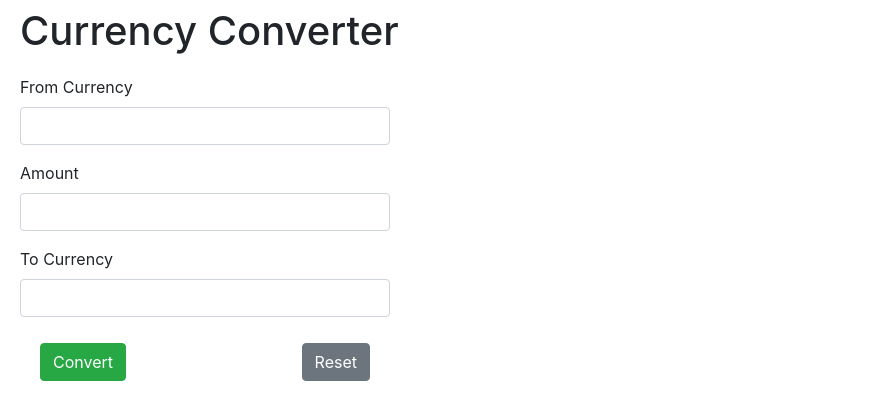
it: CurrencyCalculator component › fill the form, submit button is clicked for failed conversion
This screenshot has width=887, height=402.
Type "xxx" into the field with test id "fromCurr" at (205, 126), box [20,107,390,145]
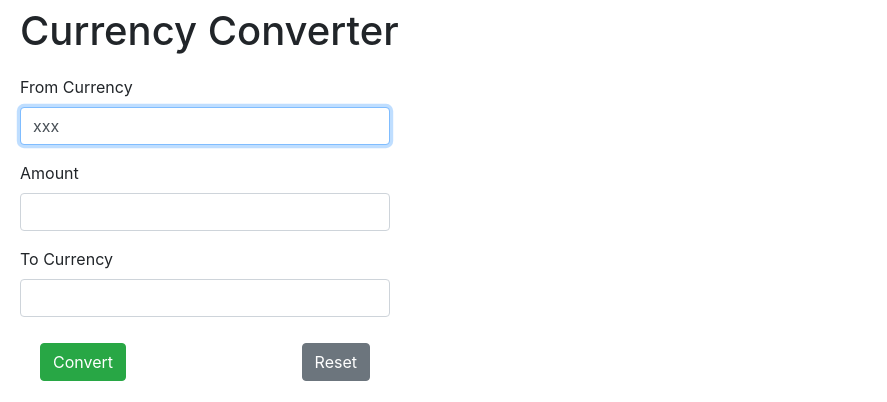
Type "10" into the number field with test id "amount" at (205, 212), box [20,193,390,231]
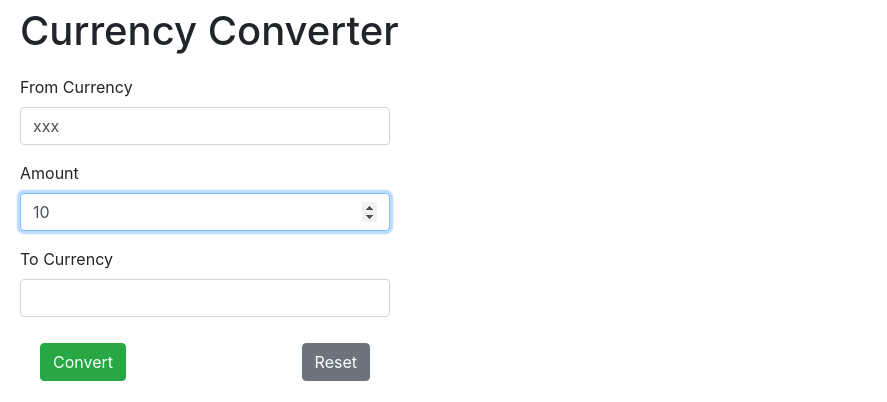
Type "aud" into the field with test id "toCurr" at (205, 298), box [20,279,390,317]
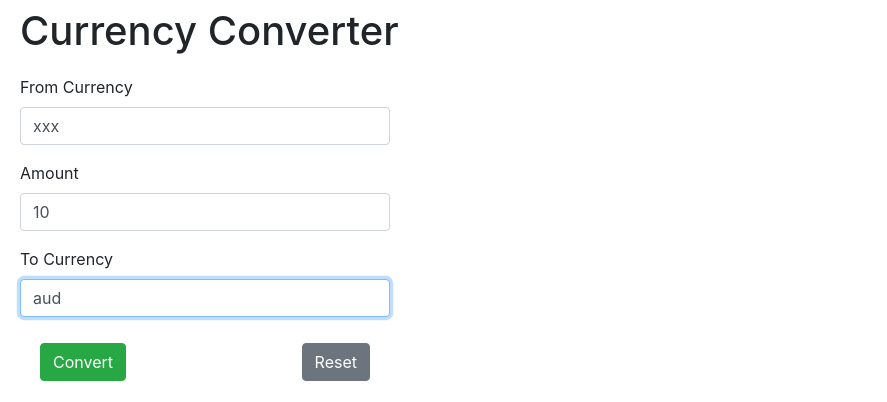
Click the button "Convert" at (83, 362), box [40,343,126,381]
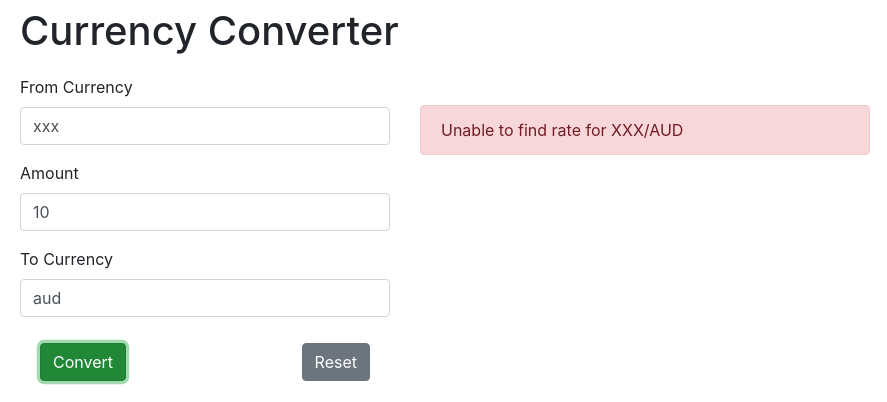
Now the message with test id "error" reads "Unable to find rate for XXX/AUD", box [441,120,683,140]
